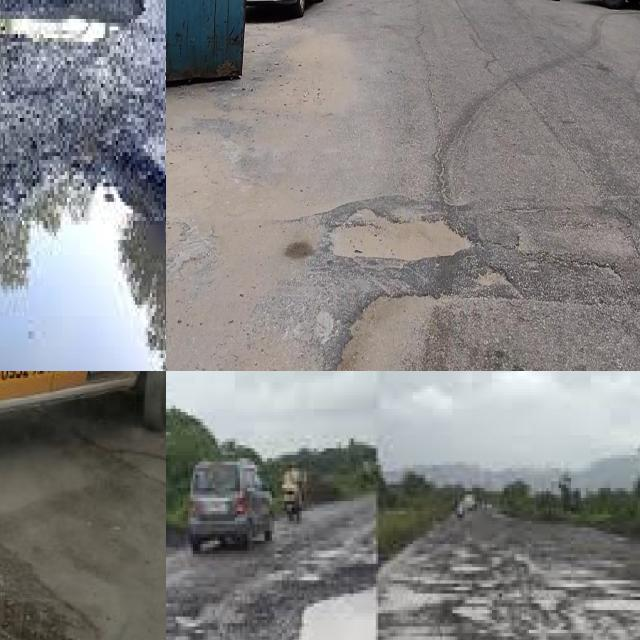Pothole: (0, 137, 166, 371), (328, 201, 481, 266), (386, 580, 492, 620), (300, 590, 376, 640)
